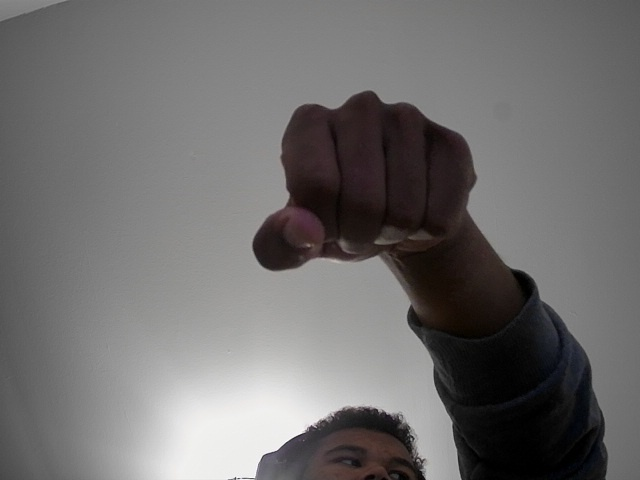Yes: (236, 81, 493, 276)
